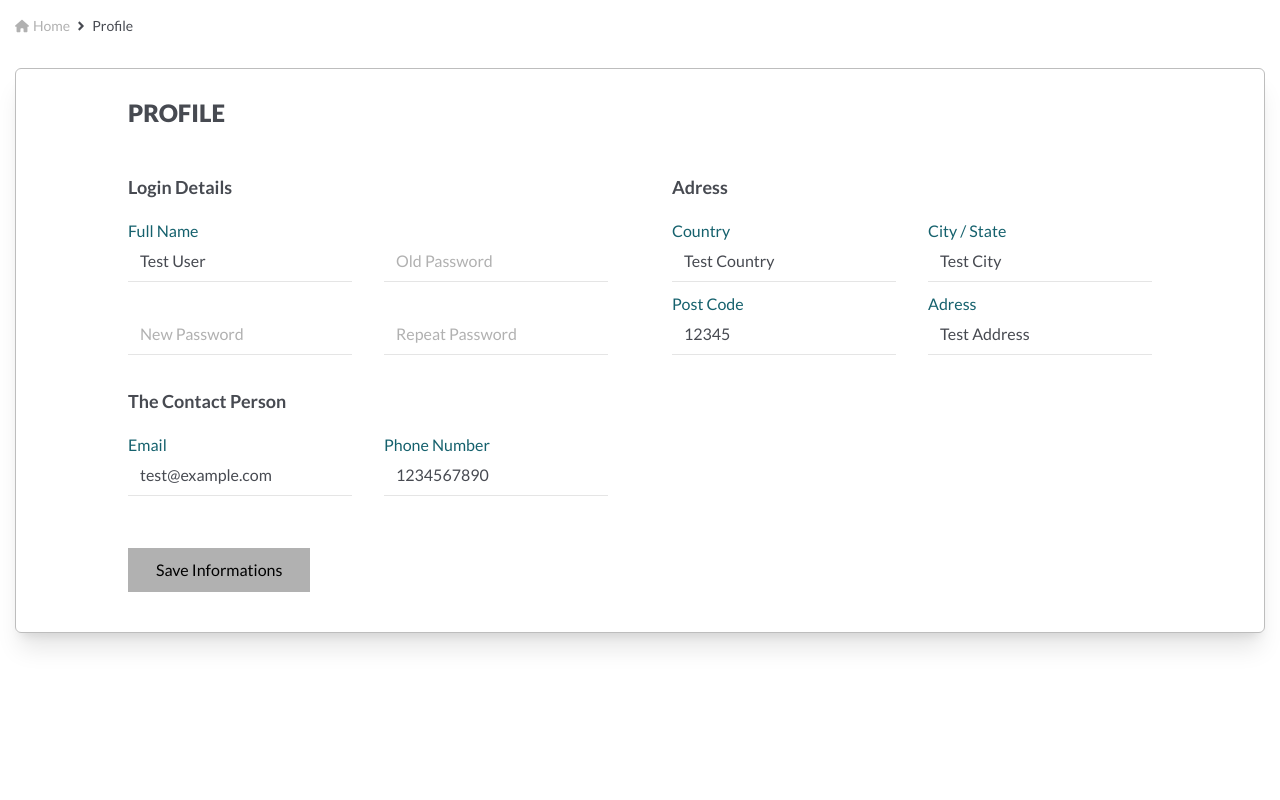
Profile Component › displays error message when required fields are missing
Step 1. Clear the field labelled "full name" → (240,262), box [128, 241, 352, 282]
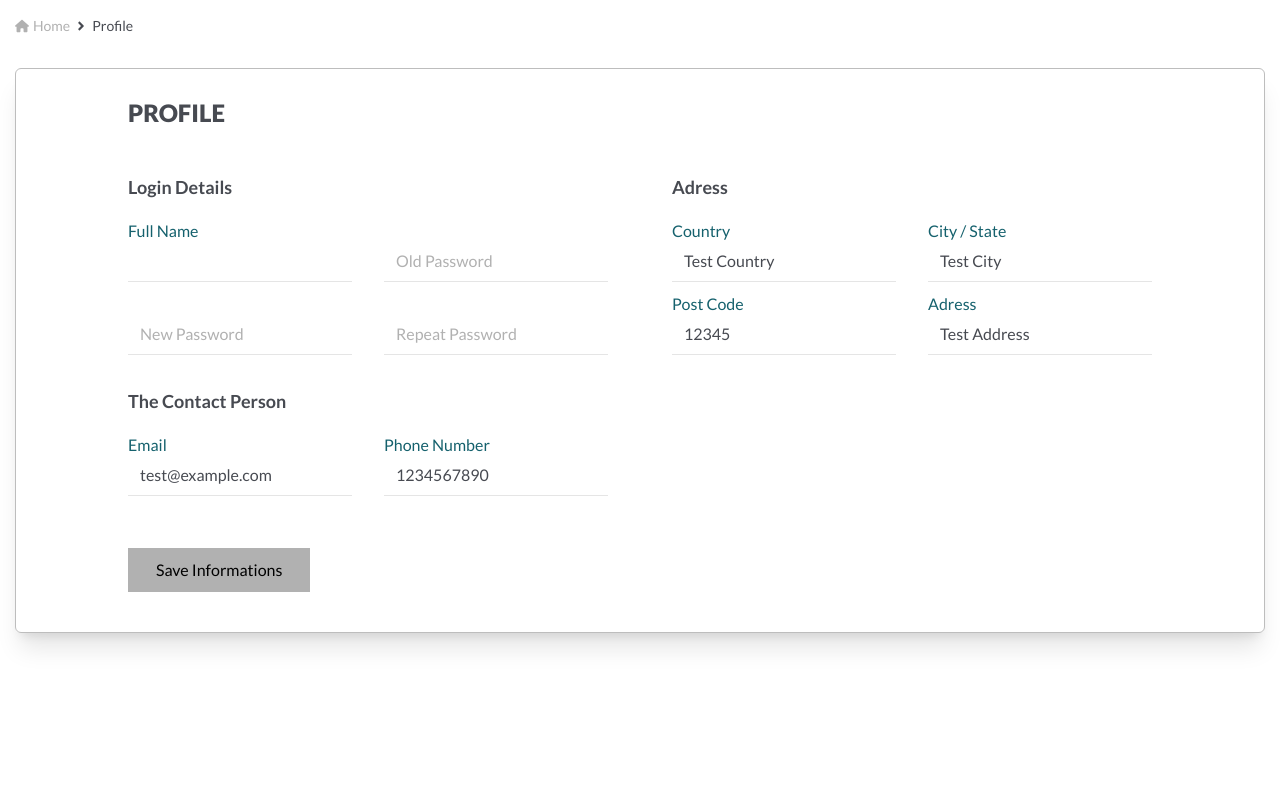
Step 2. Type "slsk" into the password field labelled "old password" → (496,262), box [384, 241, 608, 282]
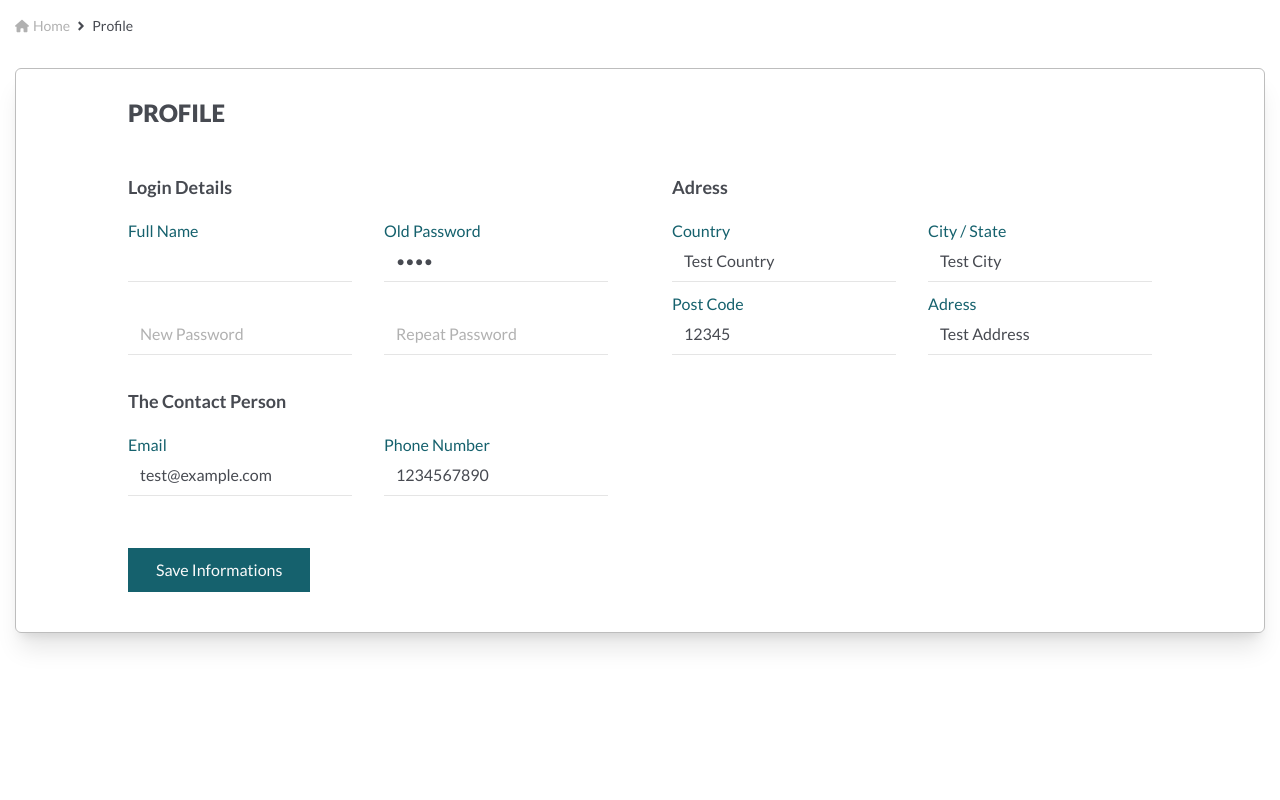
Step 3. Click the button "save informations" → (219,570), box [128, 548, 310, 592]
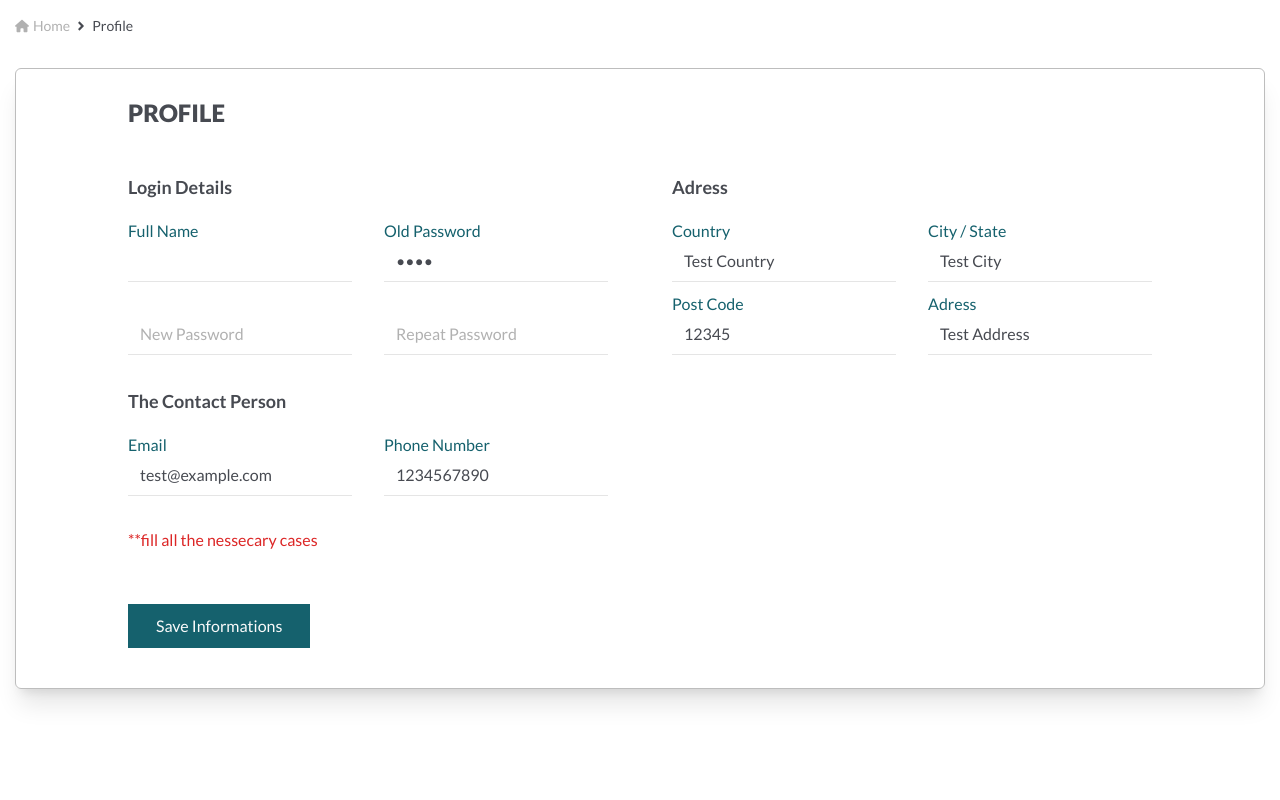
Expected: the text "**fill all the nessecary cases" is shown, [128, 528, 318, 552]
